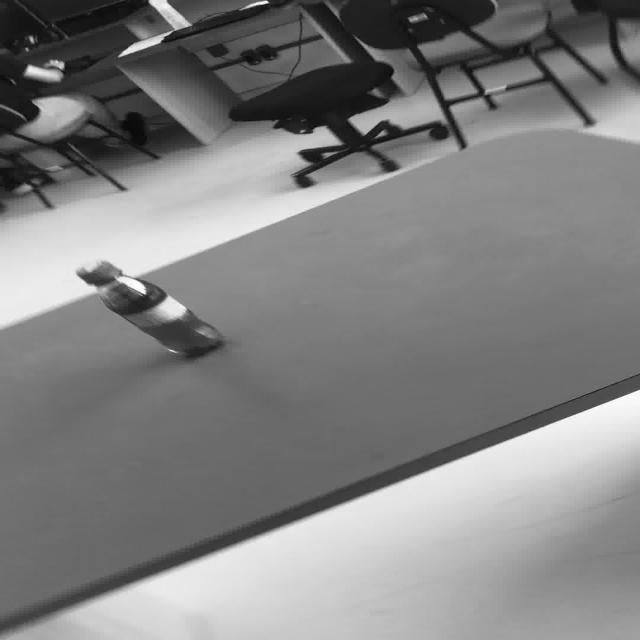guarana: (73, 258, 226, 357)
